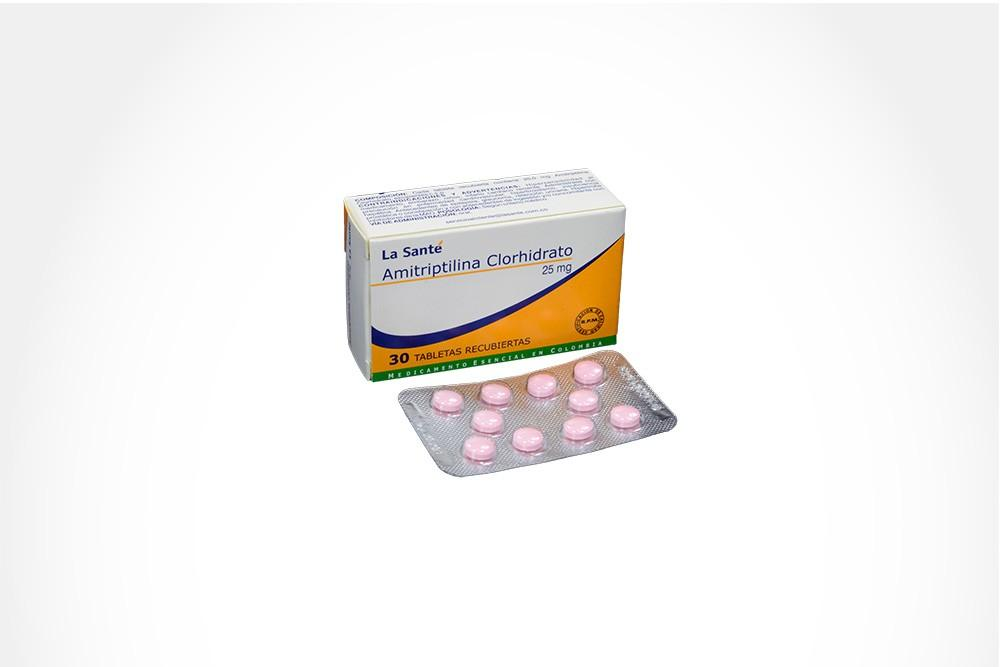LaSante: (375, 216, 618, 371)
